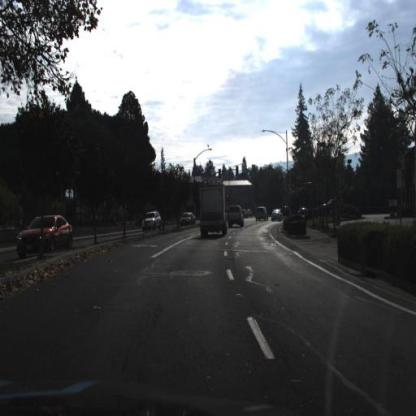car: (17, 215, 74, 262), (198, 182, 231, 238), (141, 210, 164, 232), (228, 205, 247, 229), (178, 211, 199, 231), (254, 206, 270, 224), (271, 208, 284, 226)
truck: (202, 184, 229, 239)
